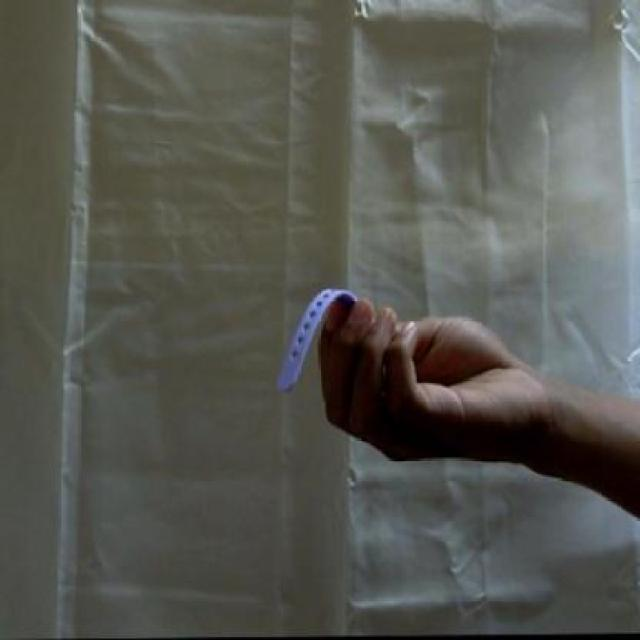Plastic: (275, 272, 362, 401)
